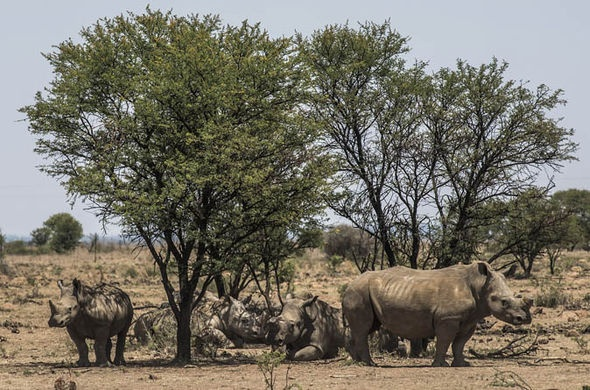rhino: (436, 312, 590, 390), (201, 327, 332, 389), (90, 325, 181, 390), (308, 324, 384, 390)
